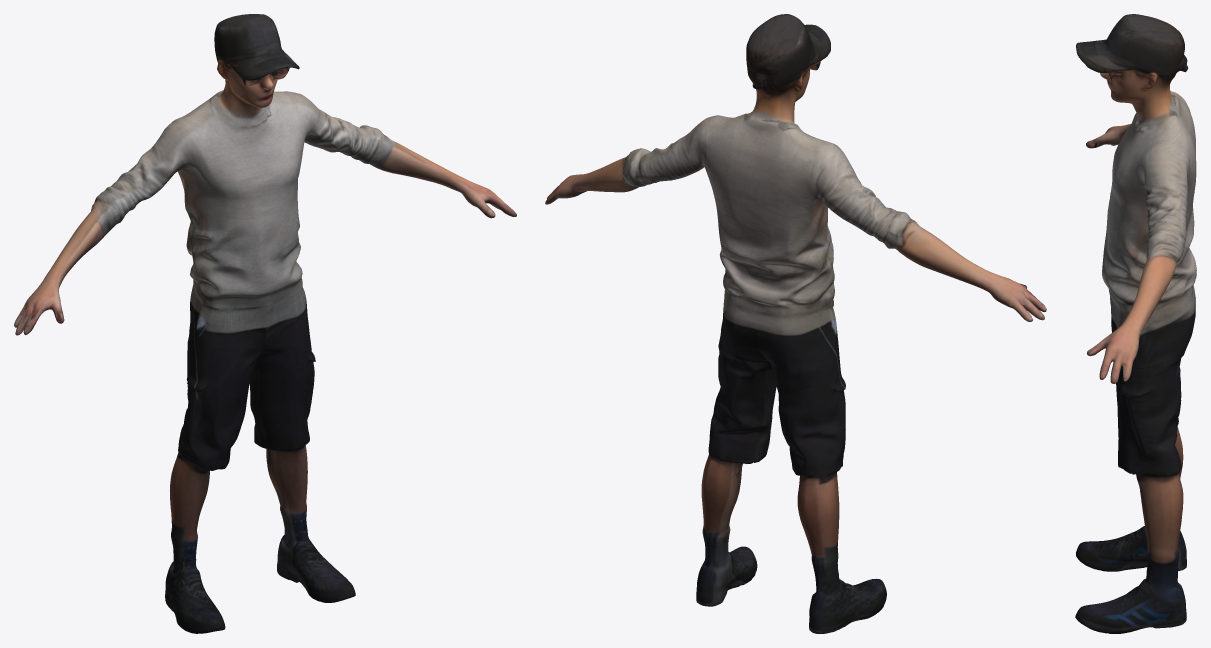
Rendered from kevin1.fbx.
3 renders of one model, left to right at view 1: azimuth 30°, elevation 25°; view 2: azimuth 150°, elevation 25°; view 3: azimuth 270°, elevation 25°, orthographic.
Visible parts, largest first — view 1: Mesh_0; view 2: Mesh_0; view 3: Mesh_0.
Part boxes in pixels (bbox=[...]): Mesh_0: bbox=[14, 14, 516, 633]; Mesh_0: bbox=[545, 14, 1046, 633]; Mesh_0: bbox=[1075, 14, 1196, 633].
Size of the model in its own units: 178 by 200 by 38.19.
1 material, 1 textured.
